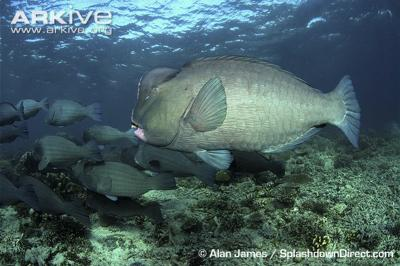Scaridae -Parrotfishes-: (129, 49, 361, 169), (129, 136, 222, 192), (83, 161, 176, 207), (23, 134, 100, 169), (42, 91, 100, 130)
